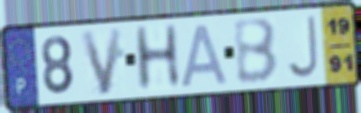8: (40, 34, 77, 97)
A: (179, 22, 231, 89)
B: (231, 16, 280, 86)
H: (131, 22, 184, 95)
J: (284, 13, 320, 81)
V: (78, 25, 125, 98)
